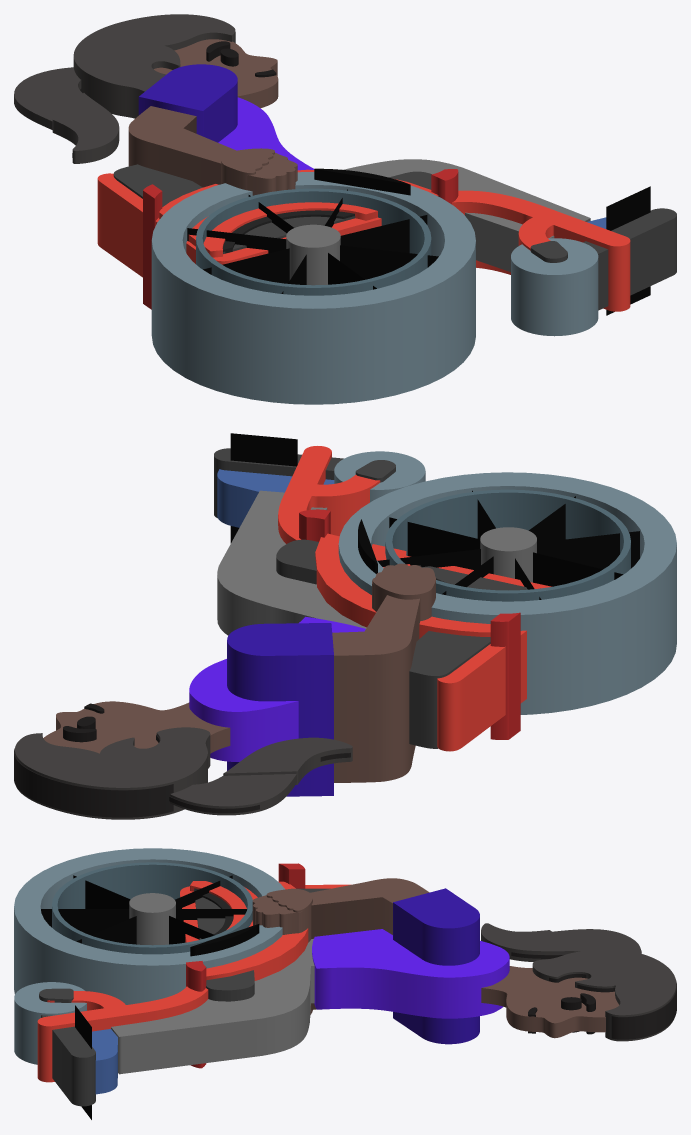
Rendered from emoji_u1f469_1f3ff_200d_1f9bd_200d_27a1.glb.
The picture shows the model from 3 angles, top to bottom: view 1: azimuth 30°, elevation 25°; view 2: azimuth 150°, elevation 25°; view 3: azimuth 270°, elevation 25°; orthographic projection. The views are drawn at different scales.
Visible parts, largest first — view 1: emoji_u1f469_1f3ff_200d_1f9bd_200d_27a1; view 2: emoji_u1f469_1f3ff_200d_1f9bd_200d_27a1; view 3: emoji_u1f469_1f3ff_200d_1f9bd_200d_27a1.
Part boxes in pixels (<box>): emoji_u1f469_1f3ff_200d_1f9bd_200d_27a1: <box>14,14,676,404</box>; emoji_u1f469_1f3ff_200d_1f9bd_200d_27a1: <box>14,433,676,819</box>; emoji_u1f469_1f3ff_200d_1f9bd_200d_27a1: <box>14,848,676,1119</box>.
Size of the model in its own units: 0.0221 by 0.0062 by 0.0322.
